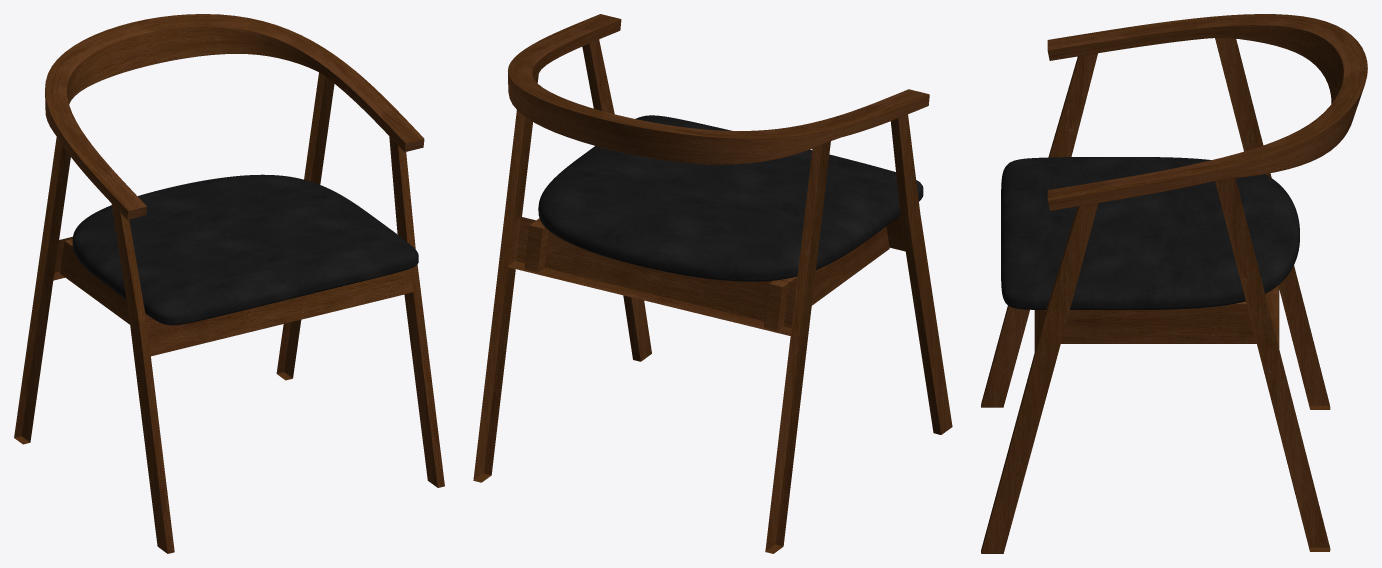
The model's file is modern-chair.glb.
The picture shows the model from 3 angles, left to right: view 1: azimuth 30°, elevation 25°; view 2: azimuth 150°, elevation 25°; view 3: azimuth 270°, elevation 25°; orthographic projection. The views are drawn at different scales.
Parts seen in each view (by area): view 1: Object_1, Object_6; view 2: Object_1, Object_6; view 3: Object_1, Object_6.
Boxes of the visible parts, bbox=[...] form: Object_1: bbox=[14, 14, 444, 553]; Object_6: bbox=[72, 174, 418, 325]; Object_1: bbox=[473, 14, 952, 553]; Object_6: bbox=[538, 115, 923, 281]; Object_1: bbox=[981, 14, 1367, 553]; Object_6: bbox=[1001, 157, 1299, 309].
Bounding box in the file's own units: 0.6955 × 0.83 × 0.7085.
2 materials, 2 textured.
